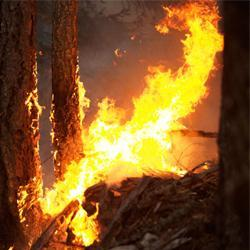fire: (91, 122, 141, 168), (143, 106, 175, 151), (61, 169, 92, 196), (70, 214, 98, 243)
